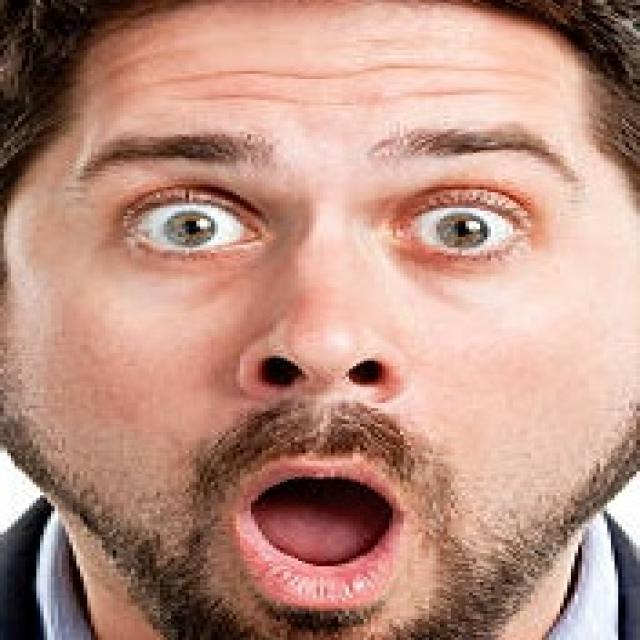Anxiety: (4, 0, 640, 637)
